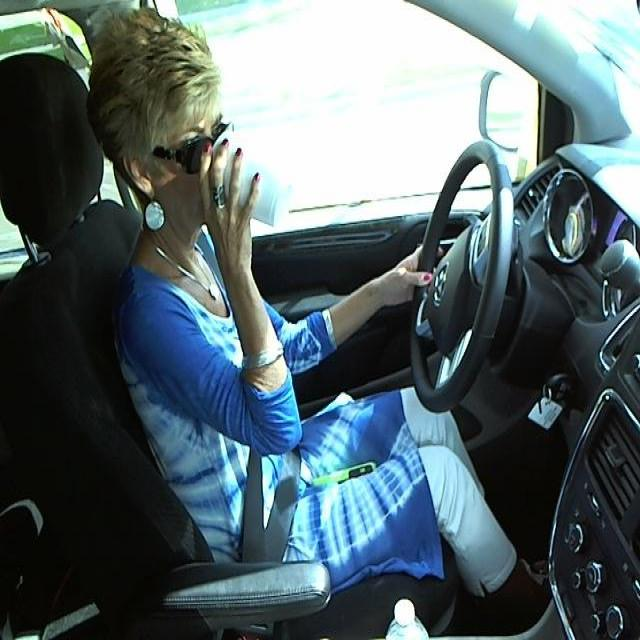drinking: (201, 128, 299, 234)
